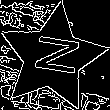N_W: (24, 34, 80, 82)
